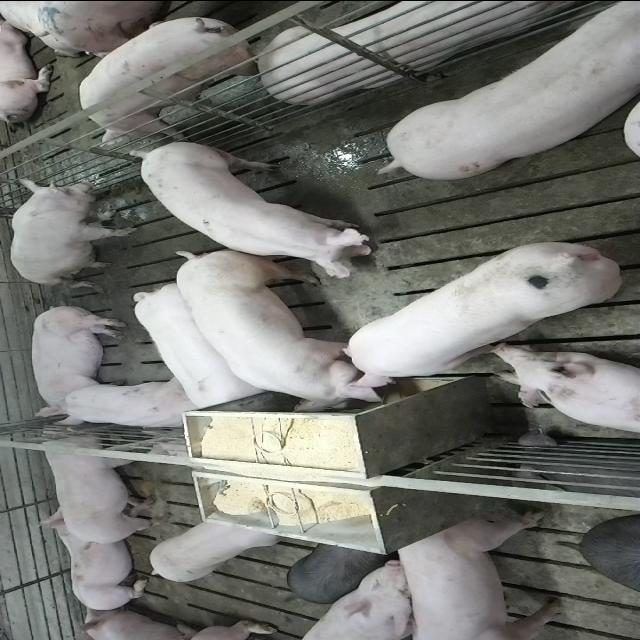Feeding: (340, 239, 624, 391), (174, 252, 392, 418)
Lateral_lying: (28, 302, 128, 418)
Sitting: (8, 176, 138, 286)
Standing: (381, 0, 640, 176), (133, 136, 384, 274), (77, 10, 266, 140), (390, 512, 564, 638), (128, 282, 264, 411), (30, 423, 172, 546), (144, 514, 284, 584)
Sternal_lying: (259, 0, 607, 101), (491, 346, 640, 436), (32, 514, 156, 612), (49, 380, 202, 432)
